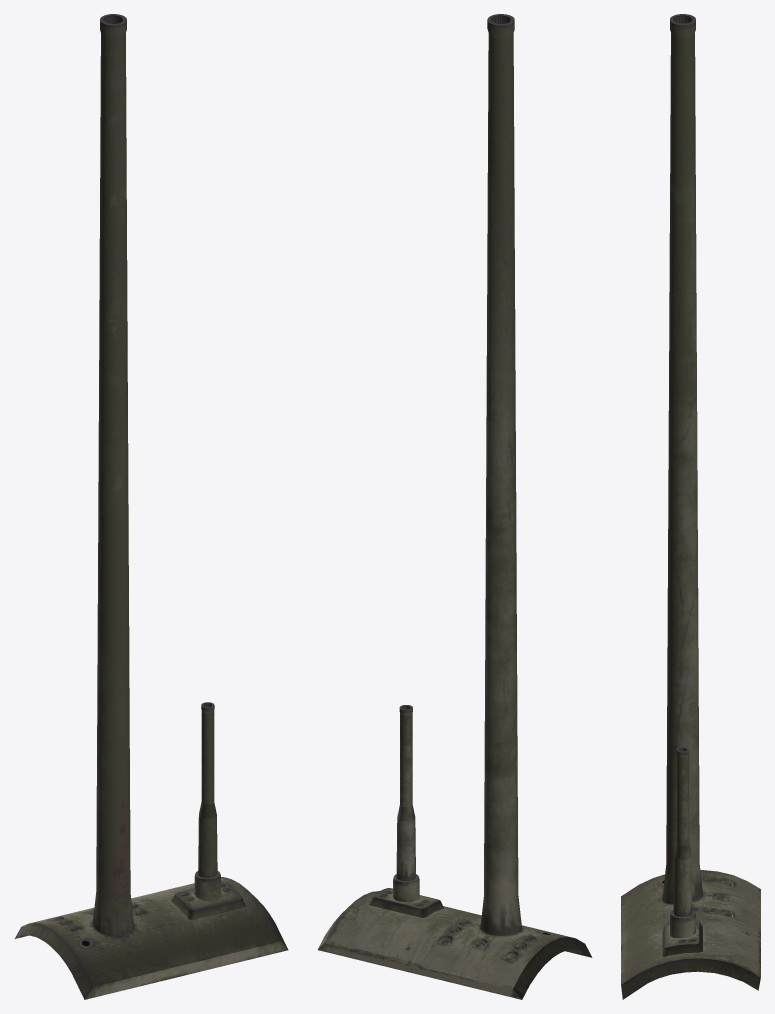
File: Gun_01.glb
3 renders of one model, left to right at view 1: azimuth 30°, elevation 25°; view 2: azimuth 150°, elevation 25°; view 3: azimuth 270°, elevation 25°, orthographic. The views are drawn at different scales.
Parts seen in each view (by area): view 1: set_0_group_0; view 2: set_0_group_0; view 3: set_0_group_0.
Boxes of the visible parts, bbox=[...] form: set_0_group_0: bbox=[15, 14, 288, 999]; set_0_group_0: bbox=[317, 14, 592, 999]; set_0_group_0: bbox=[621, 14, 760, 999].
Bounding box in the file's own units: 1.31 × 5.8 × 0.8059.
Materials: 1 (1 with a texture image).
